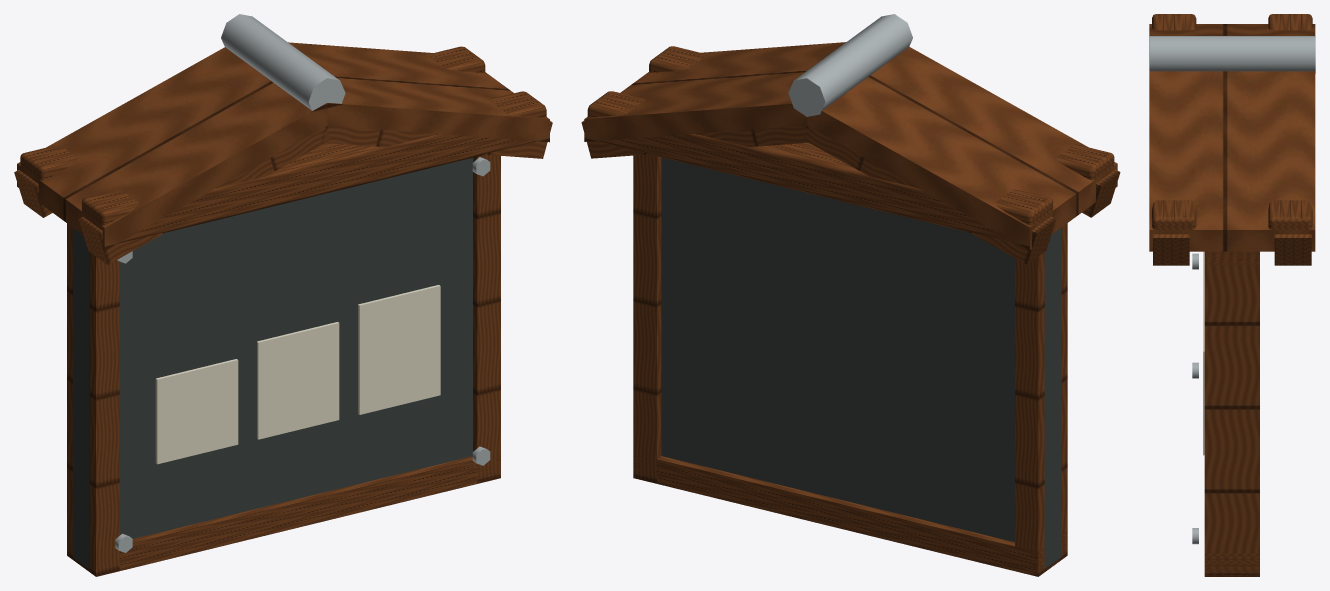
Rendered from roadside-survival-stops-rest-stop-map-frame-b7b15534__23542.glb.
The picture shows the model from 3 angles, left to right: view 1: azimuth 30°, elevation 25°; view 2: azimuth 150°, elevation 25°; view 3: azimuth 270°, elevation 25°; orthographic projection. The views are drawn at different scales.
Visible parts, largest first — view 1: rest-stop-map-frame; view 2: rest-stop-map-frame; view 3: rest-stop-map-frame.
Boxes of the visible parts, x1,y1,x2,y2 form: rest-stop-map-frame: (14,14,552,576); rest-stop-map-frame: (581,14,1120,576); rest-stop-map-frame: (1149,14,1315,576).
Size of the model in its own units: 1.35 by 1.34 by 0.4512.
4 materials, 1 textured.
